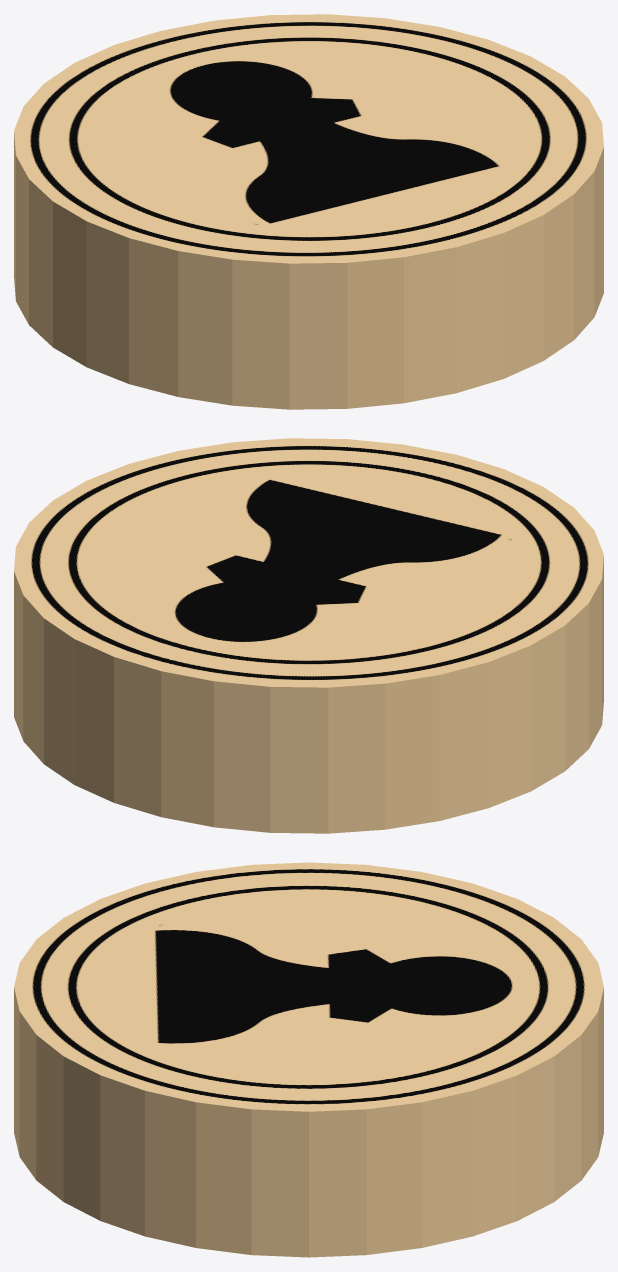
File: genericPiece.fbx
3 views of the same model, one above another, from view 1: azimuth 30°, elevation 25°; view 2: azimuth 150°, elevation 25°; view 3: azimuth 270°, elevation 25° (orthographic).
Parts seen in each view (by area): view 1: Circle; view 2: Circle; view 3: Circle.
Boxes of the visible parts, x1,y1,x2,y2 form: Circle: (14,14,603,409); Circle: (14,438,603,833); Circle: (14,862,603,1257).
Size of the model in its own units: 18.35 by 5 by 18.35.
